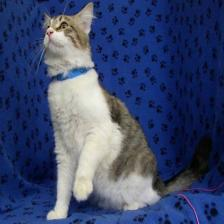cat: (40, 2, 105, 70)
